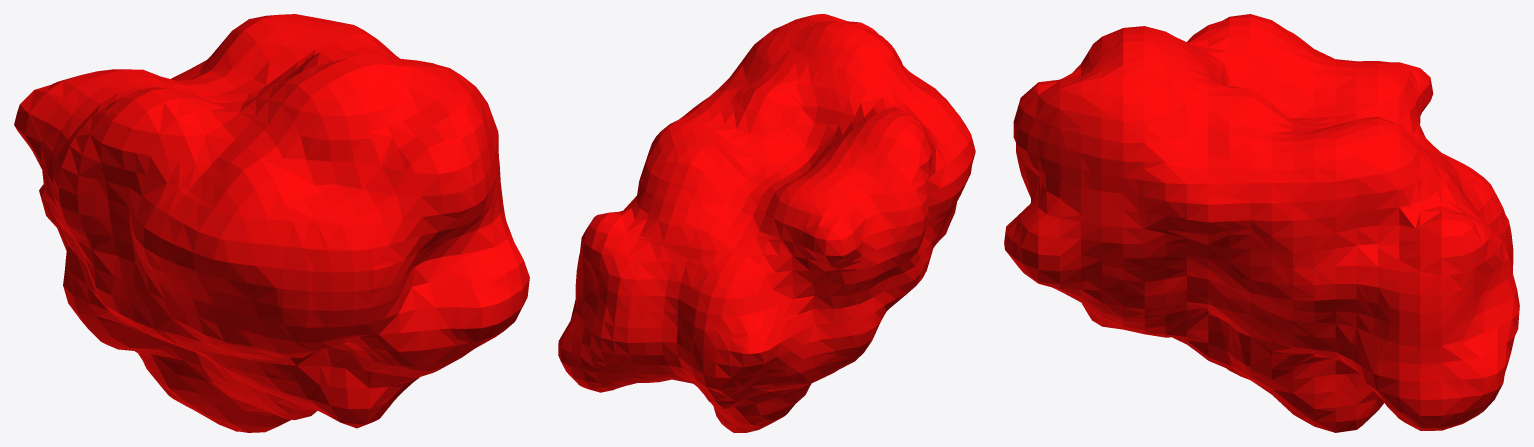
The model's file is yhjD_coarse.dae.
3 views of the same model, side by side, from view 1: azimuth 30°, elevation 25°; view 2: azimuth 150°, elevation 25°; view 3: azimuth 270°, elevation 25° (orthographic). The views are drawn at different scales.
Parts seen in each view (by area): view 1: yhjD; view 2: yhjD; view 3: yhjD.
Boxes of the visible parts, x1=… form: yhjD: x1=14, y1=14, x2=529, y2=432; yhjD: x1=558, y1=14, x2=975, y2=432; yhjD: x1=1004, y1=14, x2=1519, y2=432.
Size of the model in its own units: 49.24 by 54.83 by 65.67.
